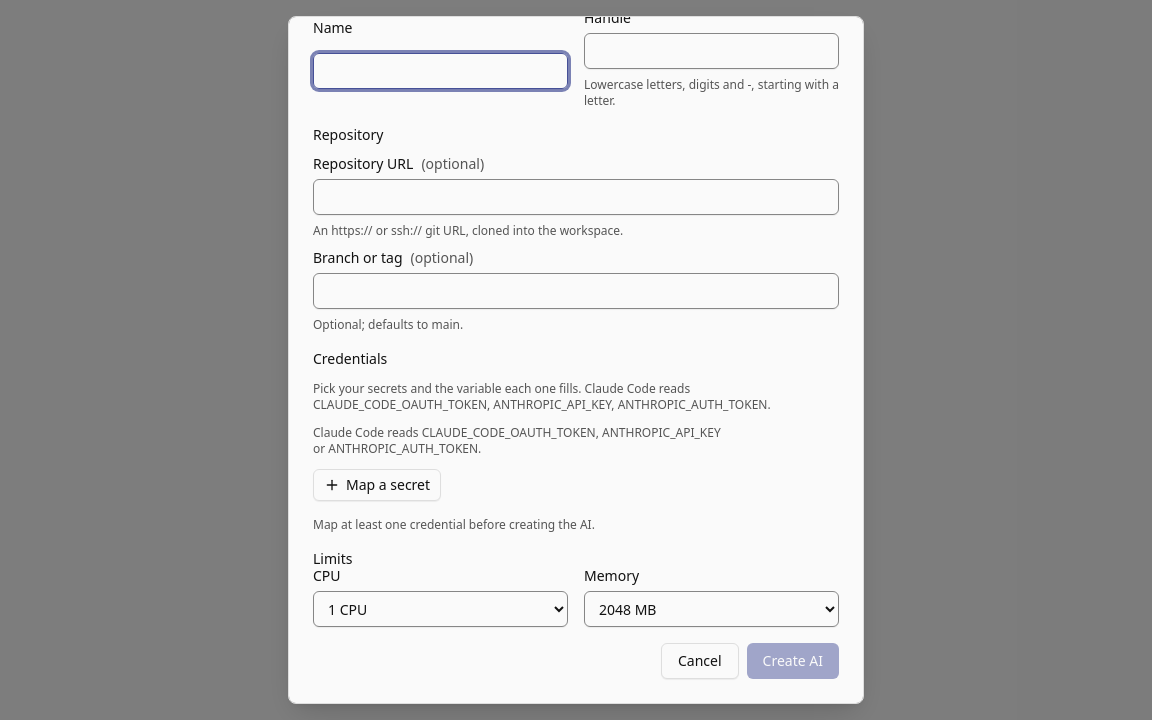
Scenario: the new container AI form (CA-04) › offers the connected server and the app, with the limits every container starts with
(page scrolled)
Expected: the dropdown labelled "CPU" shows "1 CPU", [313,591,568,627]
Expected: the dropdown labelled "Memory" shows "2048 MB", [584,591,839,627]
Click the button "Map a secret": (377, 485) [313,469,441,501]
(page scrolled)
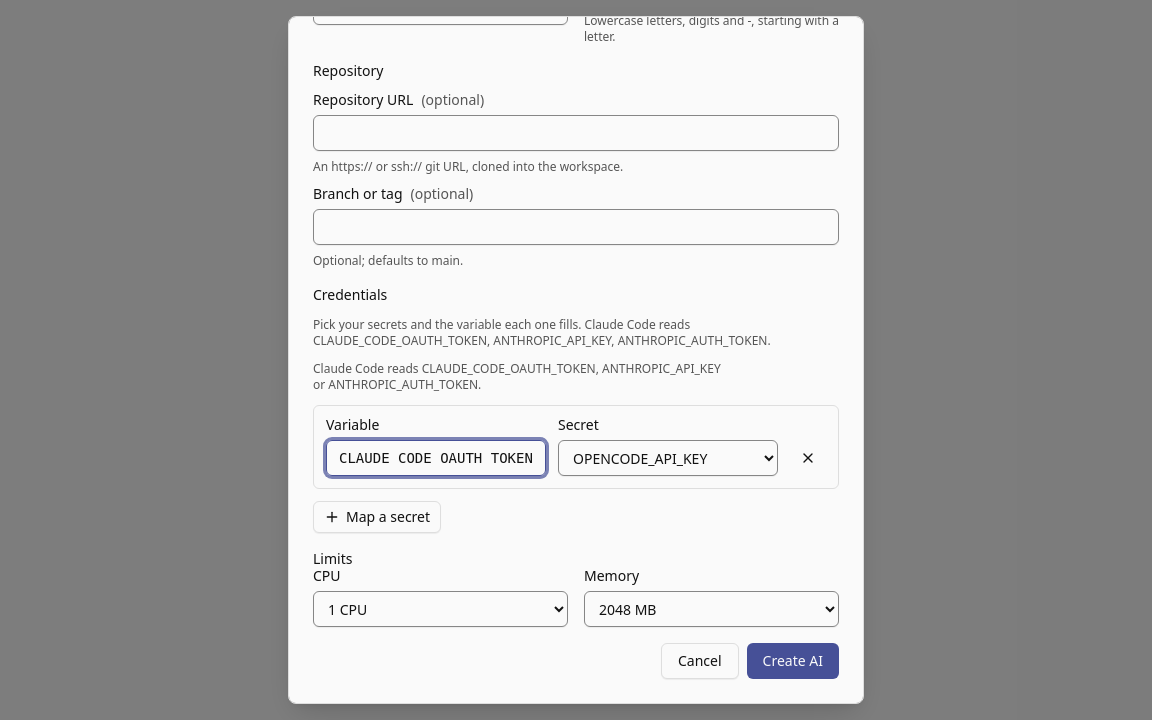
Expected: the button "Create AI" is enabled, [747,643,839,679]
